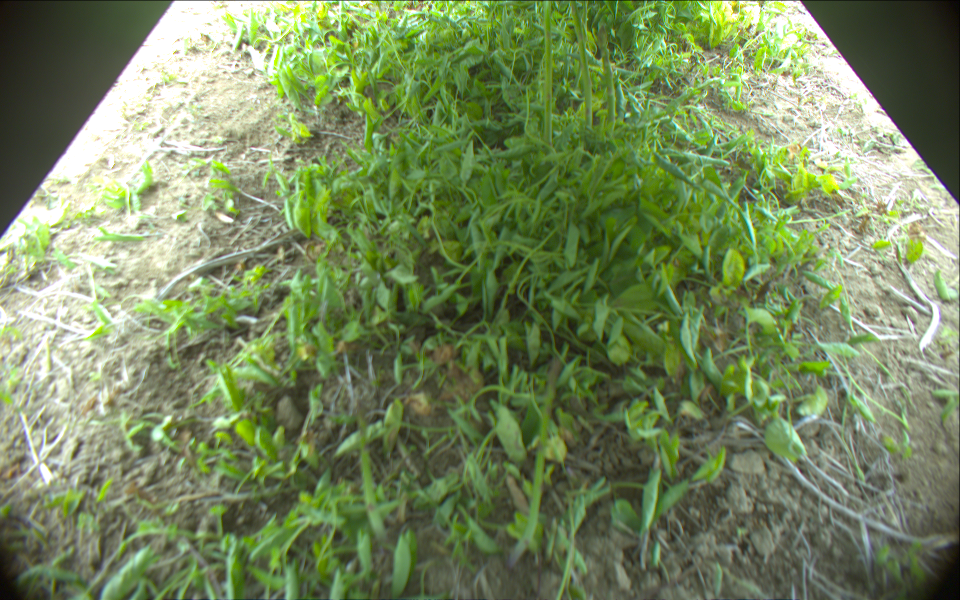aspa: (520, 357, 559, 556), (354, 403, 384, 535), (569, 1, 592, 132), (597, 25, 616, 126), (541, 1, 552, 144)
